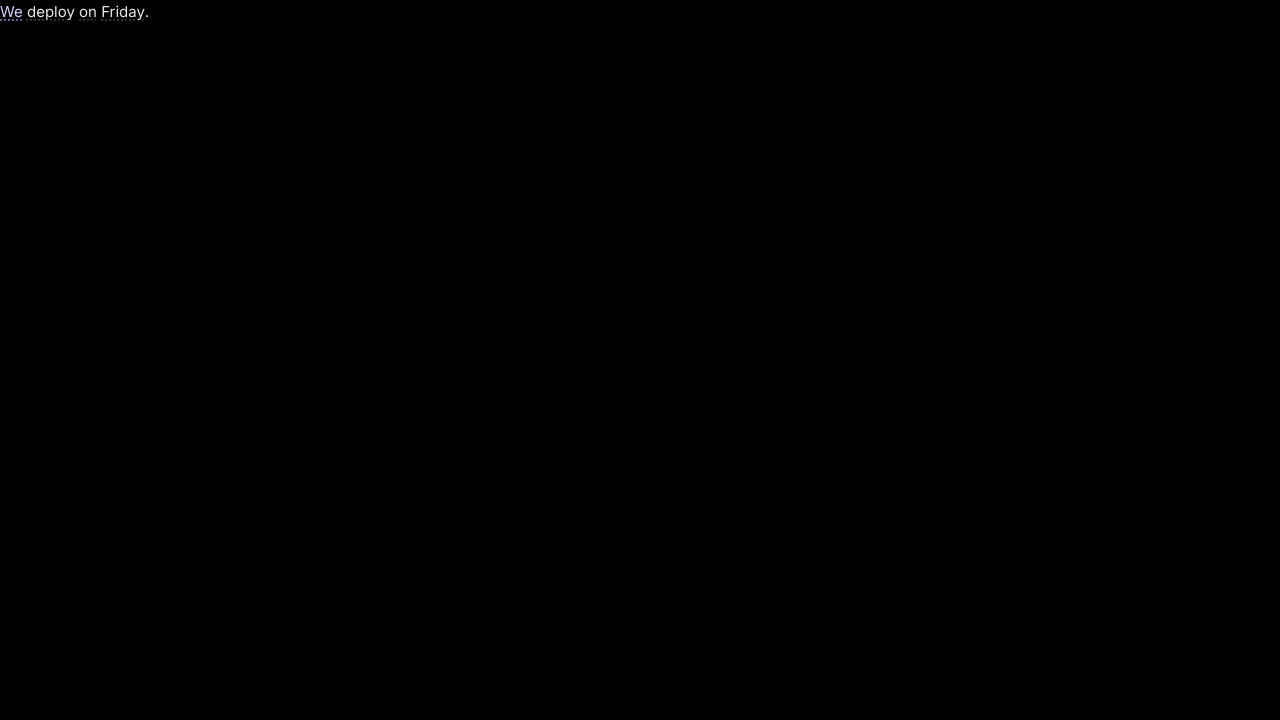
Test: uma consulta que falha não trava o item
Click the button named "Consultar \"deploy\"" at [51, 12], box top-left (27, 0), bottom-right (75, 23)
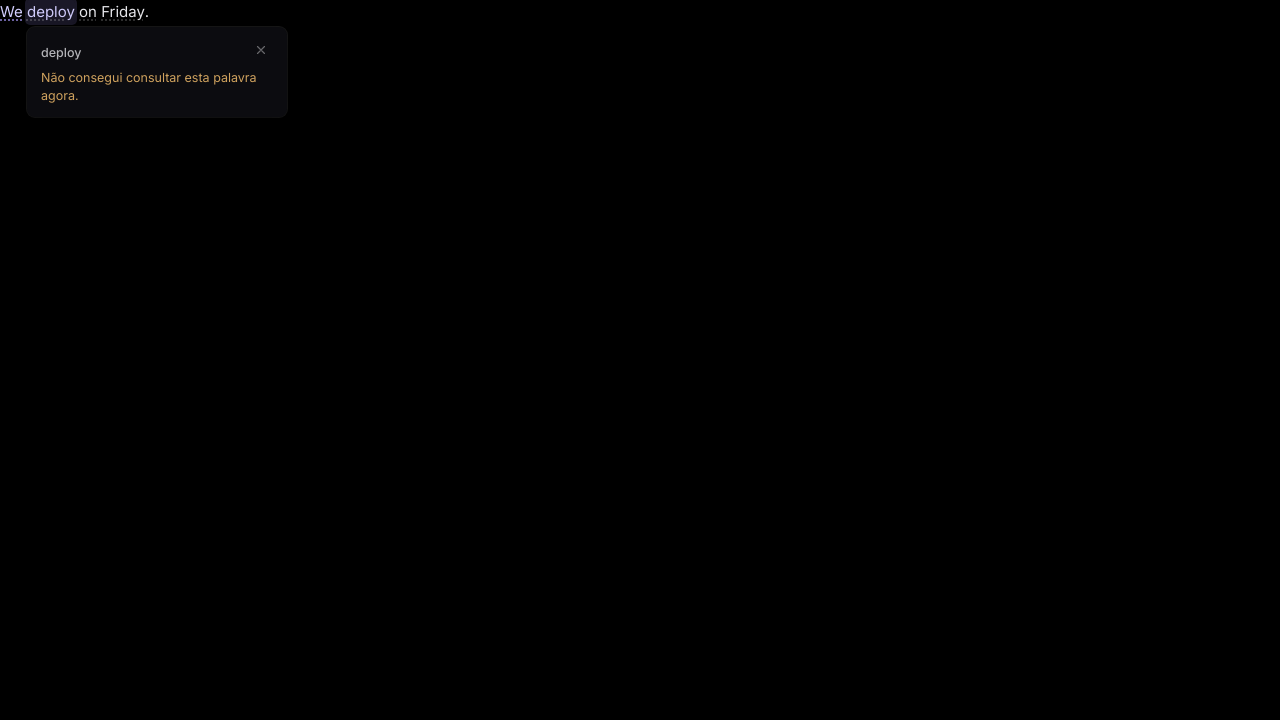
Expected: the button named "Consultar \"Friday\"" is shown, top-left (101, 0), bottom-right (145, 23)
Result: the text "Não consegui consultar esta palavra agora." is shown at top-left (41, 68), bottom-right (273, 106)
